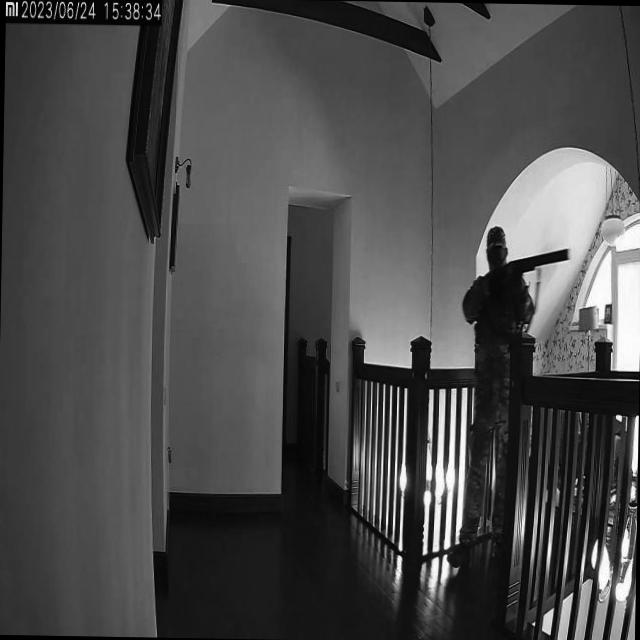gun: (488, 244, 572, 281)
person with a gun: (456, 222, 574, 569)
